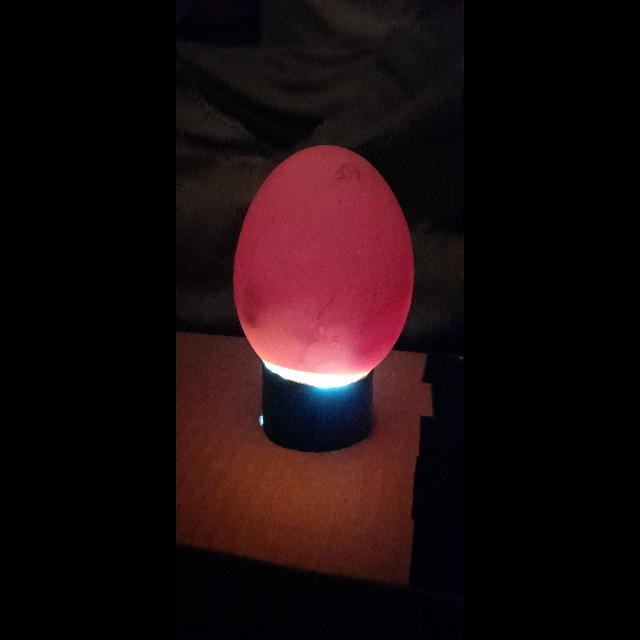Fertile: (220, 142, 422, 386)
